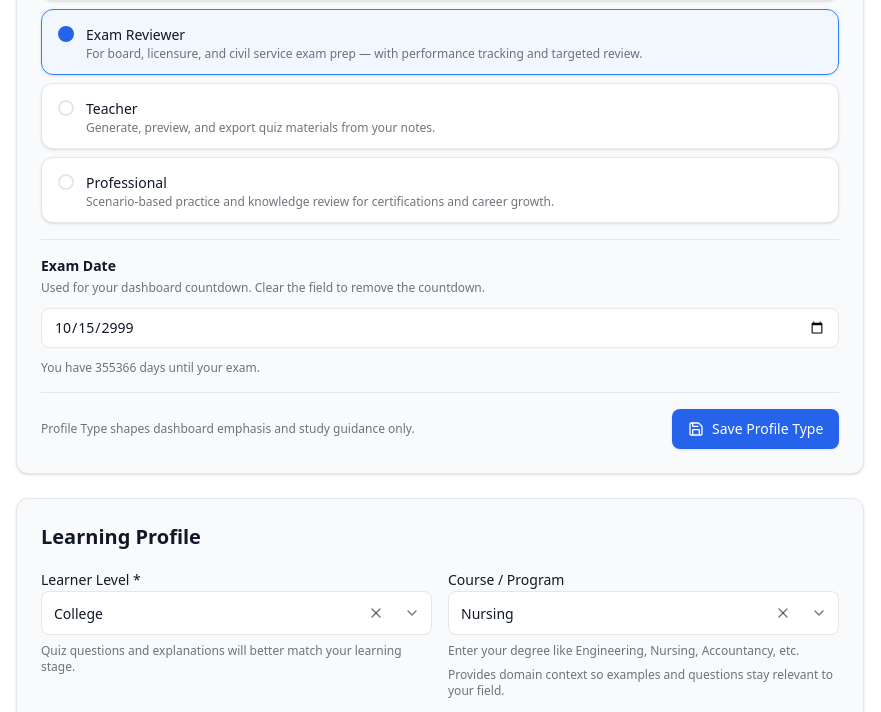
Test case: Profile page › shows and saves exam date for Exam Reviewer profiles
(page scrolled)
Expected: the text "You have 355366 days until your exam." is shown, [41,359,260,376]
In the date field named "Exam Date": (440, 328) [41,308,839,348], type "2999-12-20"
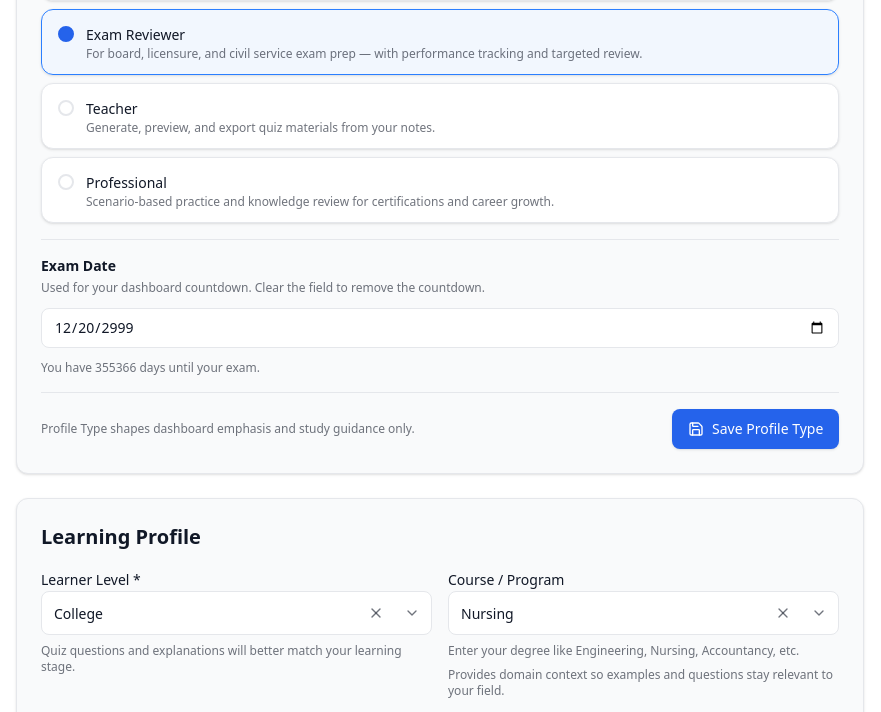
Click the button "Save Profile Type": (755, 429) [672,409,839,449]
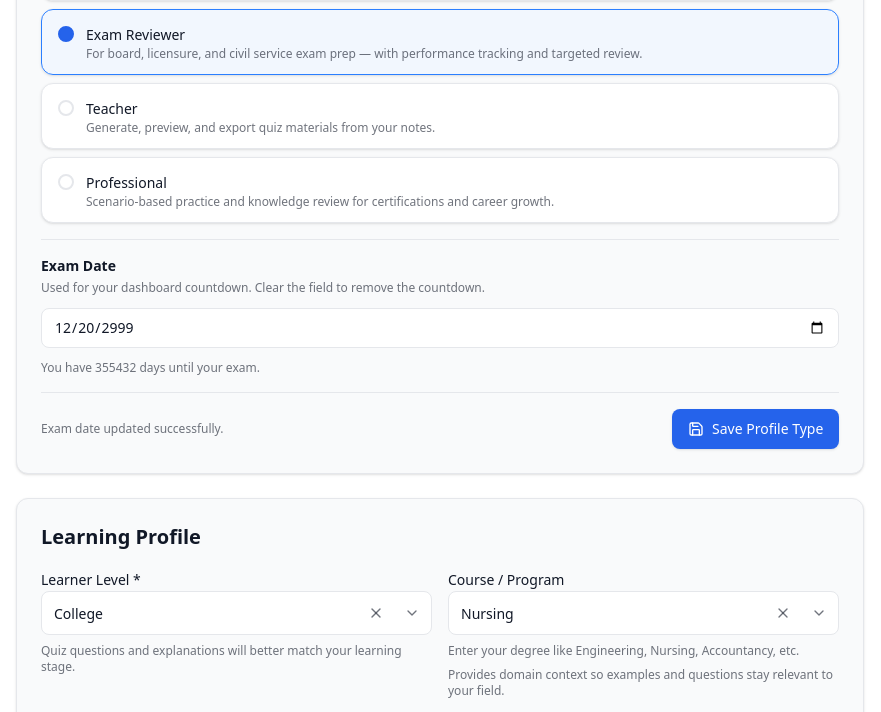
Expected: the text "Exam date updated successfully." is shown, [41,421,224,437]
